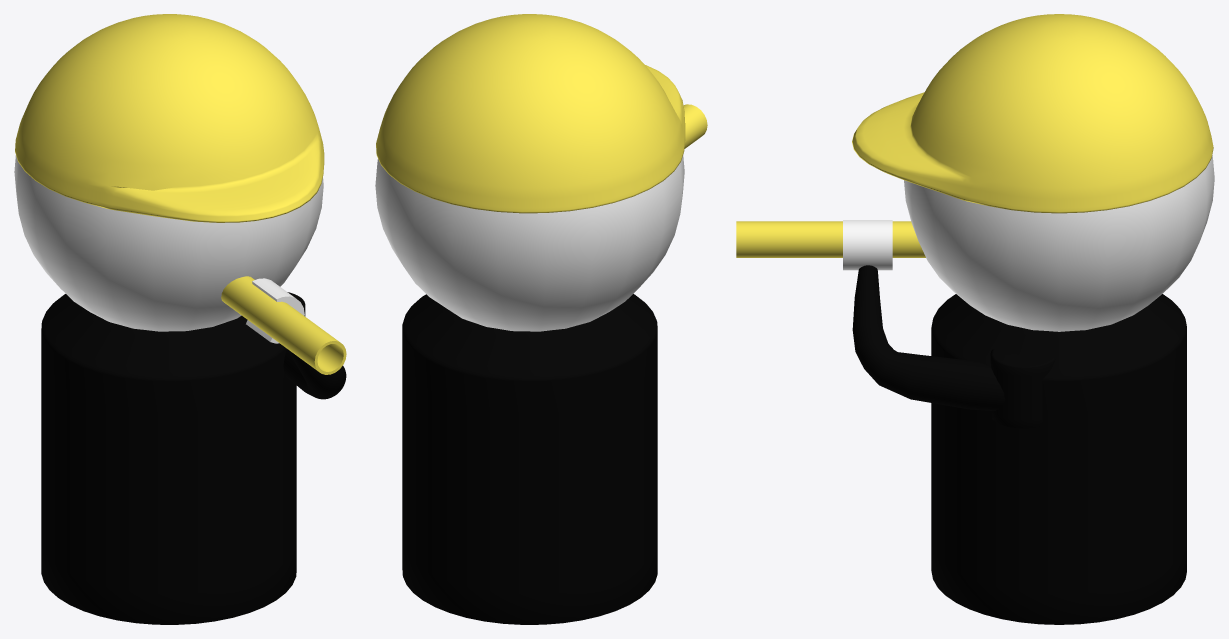
File: pea_shooter2.0.fbx
3 renders of one model, left to right at view 1: azimuth 30°, elevation 25°; view 2: azimuth 150°, elevation 25°; view 3: azimuth 270°, elevation 25°, orthographic.
Parts seen in each view (by area): view 1: polySurface5; view 2: polySurface5; view 3: polySurface5.
Boxes of the visible parts, <box> form: polySurface5: <box>14,14,346,624</box>; polySurface5: <box>375,14,707,624</box>; polySurface5: <box>736,14,1214,624</box>.
Size of the model in its own units: 2 by 3.86 by 3.08.
